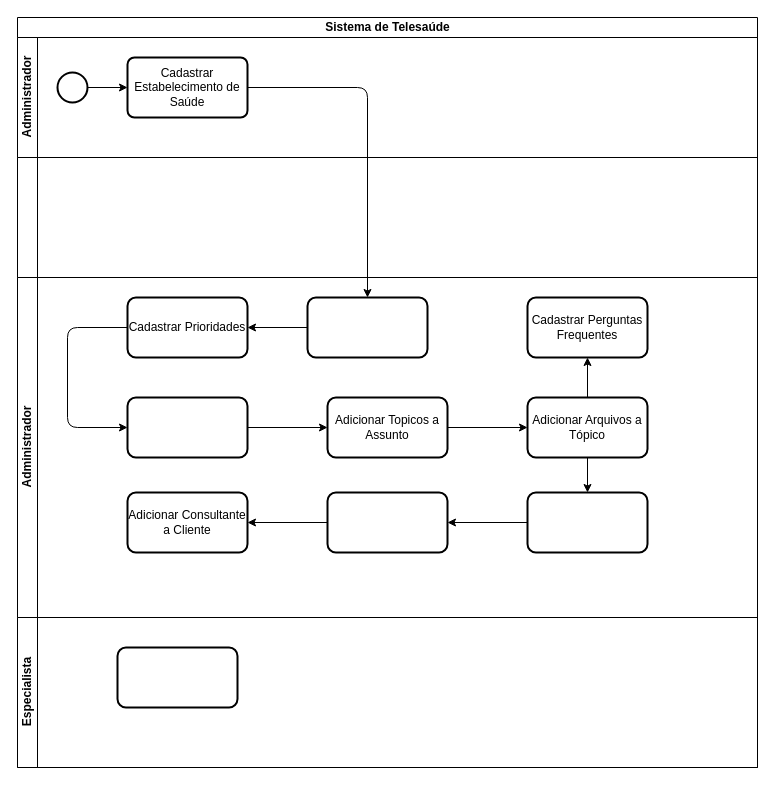
Some shapes in this 775 by 785 pixel diagram are drawn without their labels. The shapes that lost their labels are listed below. From the top down, each one's centre as x and y in pixels, then its label:
the point at 367,327: Cadastrar Estados
the point at 187,427: Cadastrar Assunto
the point at 387,522: Cadastrar Cliente
the point at 587,522: Cadastrar Especialista
the point at 177,677: Realizar Consulta
